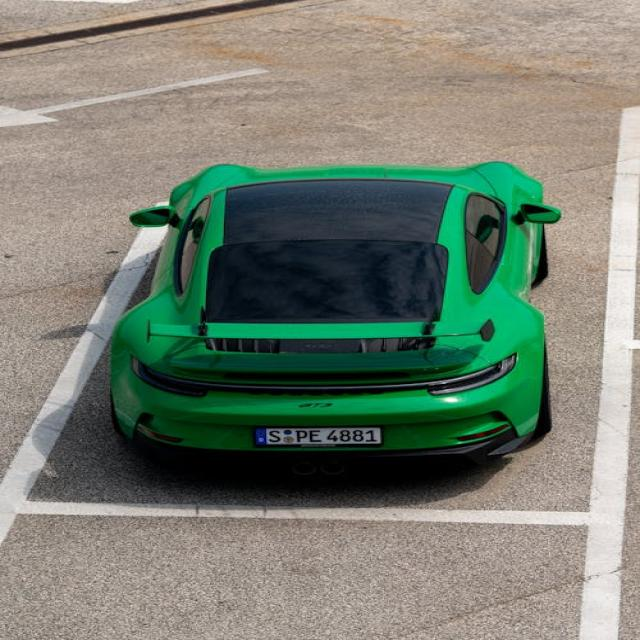car: (108, 160, 566, 472)
